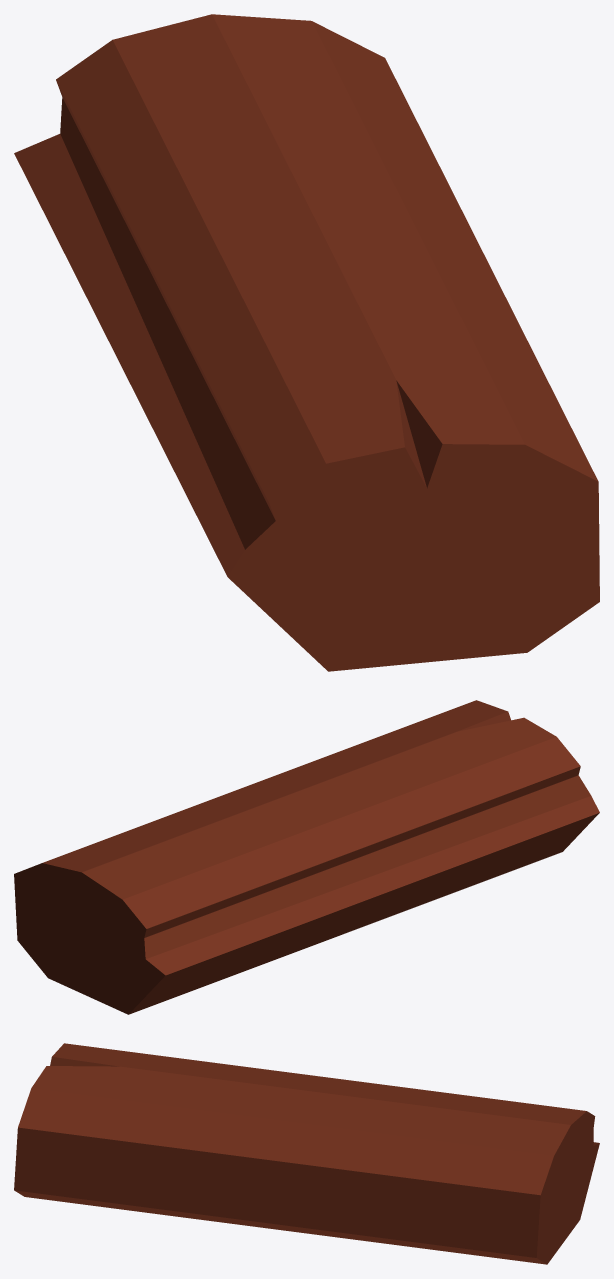
The model's file is BrokenWood_04.fbx.
The picture shows the model from 3 angles, top to bottom: view 1: azimuth 30°, elevation 25°; view 2: azimuth 150°, elevation 25°; view 3: azimuth 270°, elevation 25°; orthographic projection. The views are drawn at different scales.
Visible parts, largest first — view 1: brokenwood_04; view 2: brokenwood_04; view 3: brokenwood_04.
Part boxes in pixels (x1,y1,x2,y2): brokenwood_04: (14,14,599,671); brokenwood_04: (14,700,599,1014); brokenwood_04: (14,1043,599,1264).
Size of the model in its own units: 149 by 54.59 by 238.
